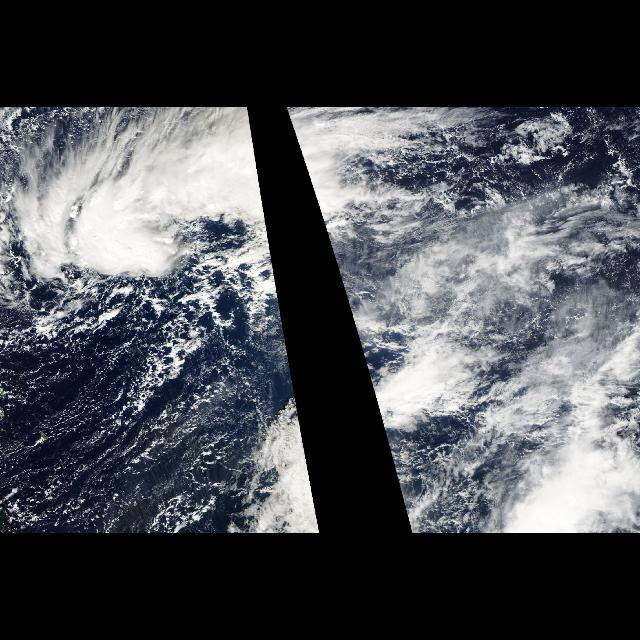Gravel: (0, 283, 252, 533)
